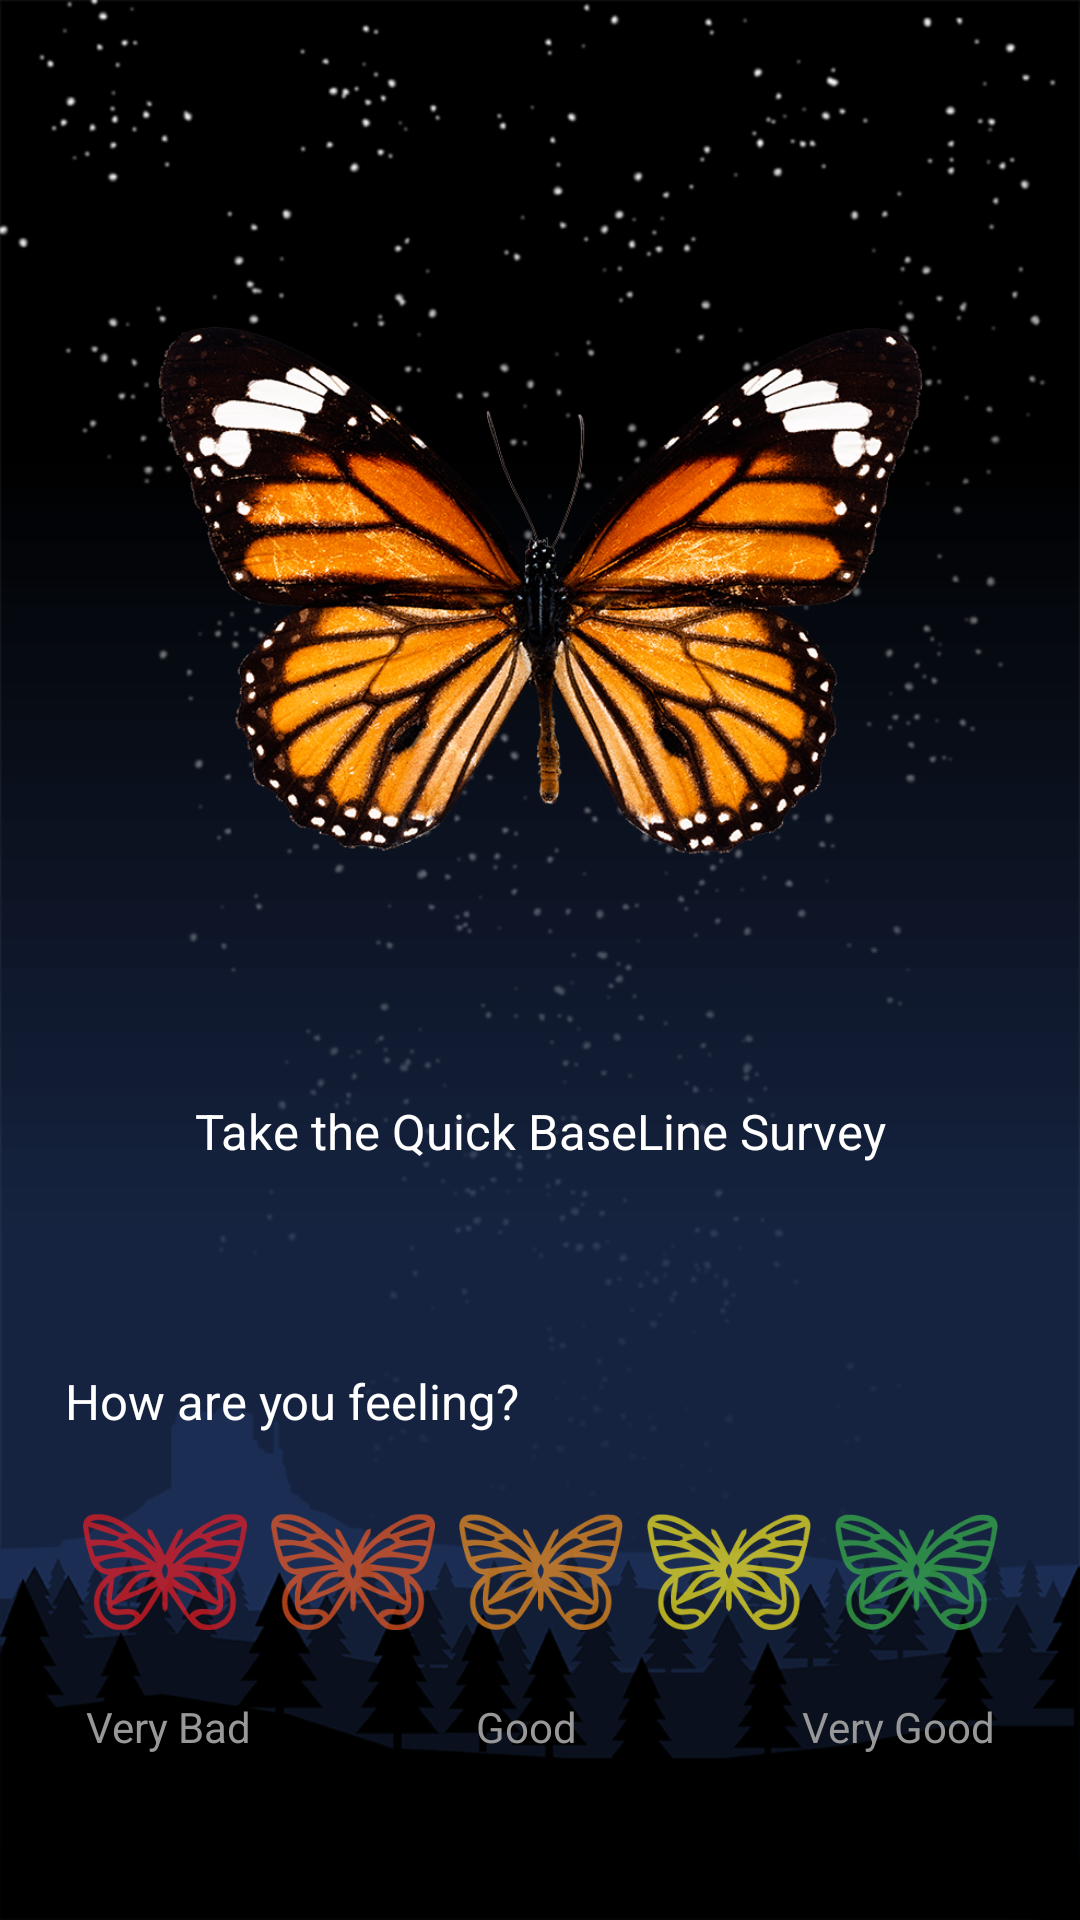

Point at icon controls on the screen. Image size 1080px×1920px, points as (x=x, y=y).
darkorange butterfly: (x=353, y=1572)
